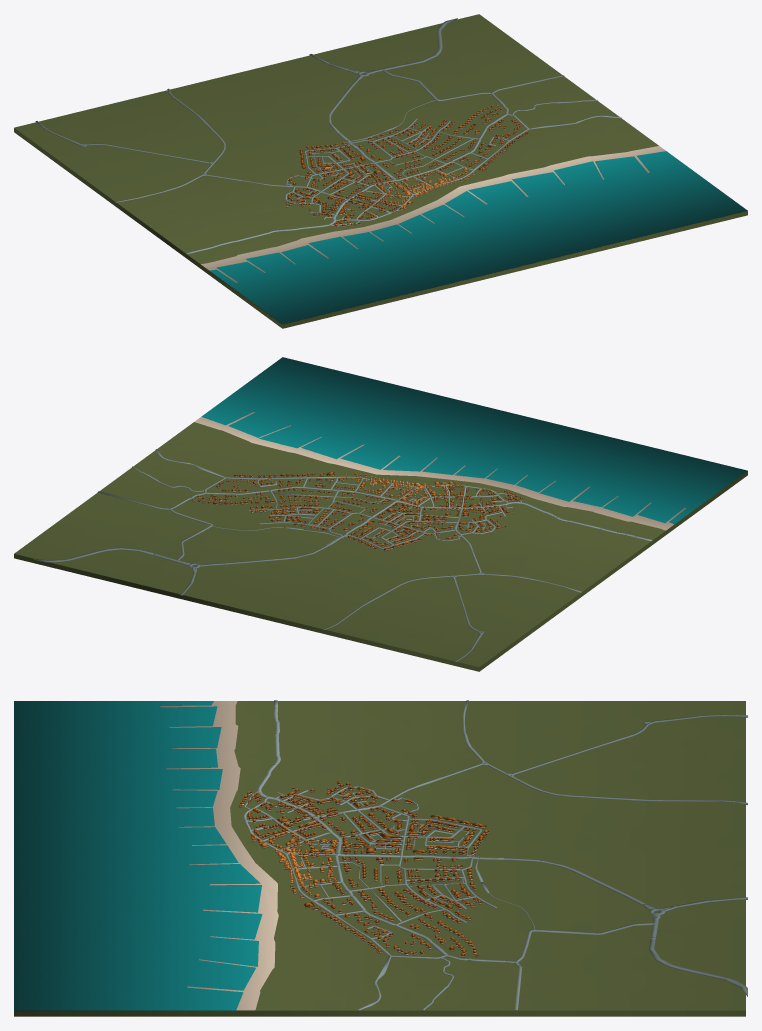
The model's file is zoutelande final groot.fbx.
3 renders of one model, top to bottom at view 1: azimuth 30°, elevation 25°; view 2: azimuth 150°, elevation 25°; view 3: azimuth 270°, elevation 25°, orthographic. The views are drawn at different scales.
Parts seen in each view (by area): view 1: map_mesh (1).044; view 2: map_mesh (1).044; view 3: map_mesh (1).044.
Part boxes in pixels (left/top/right/bottom): map_mesh (1).044: left=14, top=14, right=747, bottom=328; map_mesh (1).044: left=14, top=357, right=747, bottom=671; map_mesh (1).044: left=14, top=700, right=747, bottom=1016.
Bounding box in the file's own units: 10703 × 152 × 10726.
Materials: 4 (4 with a texture image).
